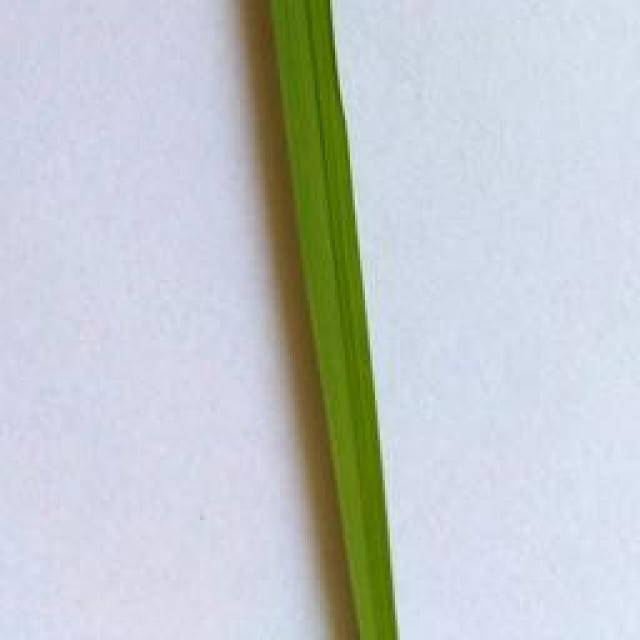Healthy-Plant: (256, 0, 406, 640)
